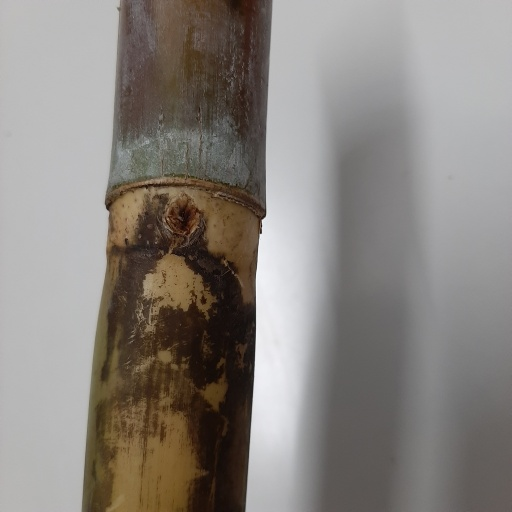Damage_Bud: (163, 190, 201, 236)
